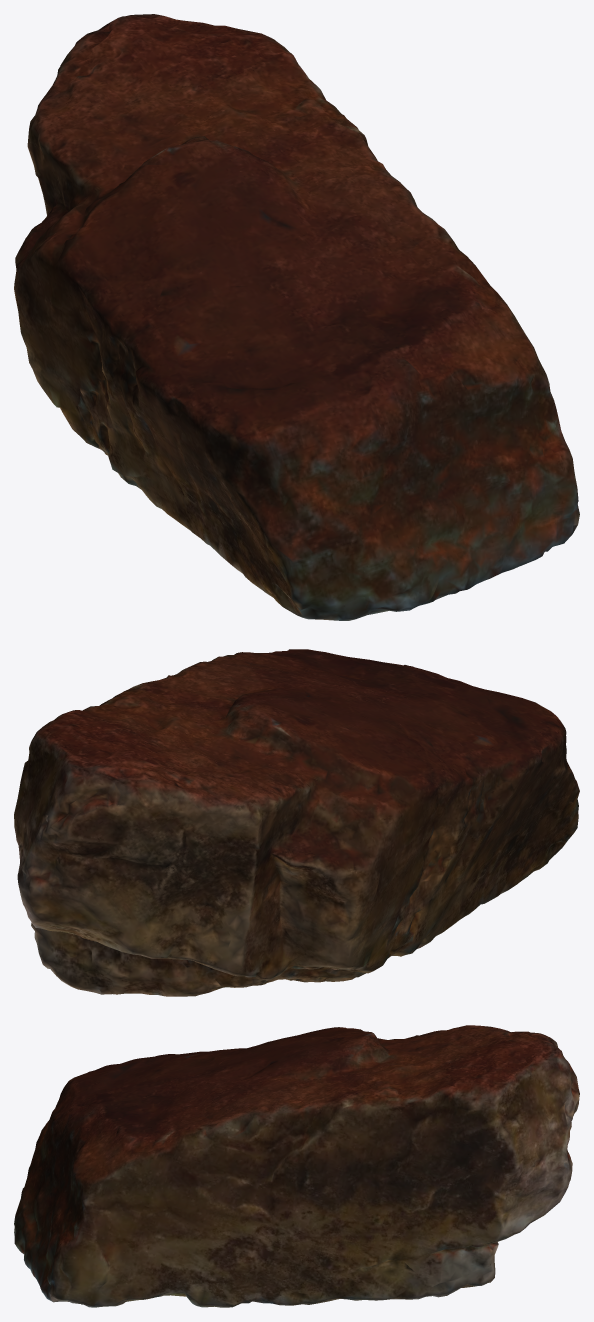
File: rock_07.glb
3 views of the same model, one above another, from view 1: azimuth 30°, elevation 25°; view 2: azimuth 150°, elevation 25°; view 3: azimuth 270°, elevation 25° (orthographic). The views are drawn at different scales.
Parts seen in each view (by area): view 1: rock_07; view 2: rock_07; view 3: rock_07.
Boxes of the visible parts, x1,y1,x2,y2 form: rock_07: [14, 14, 579, 620]; rock_07: [14, 649, 579, 996]; rock_07: [14, 1025, 579, 1307].
Bounding box in the file's own units: 0.1689 × 0.1437 × 0.3203.
1 material, 1 textured.
